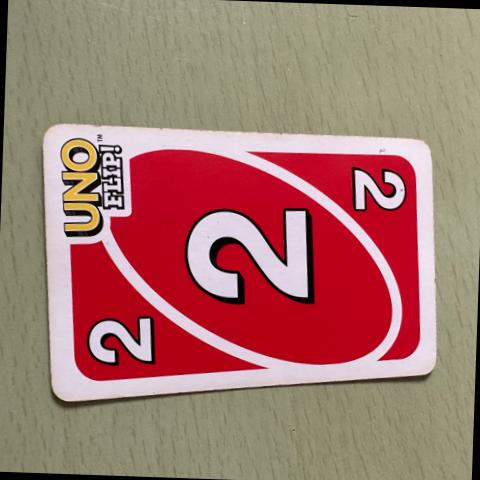lred-2: (65, 292, 172, 388)
